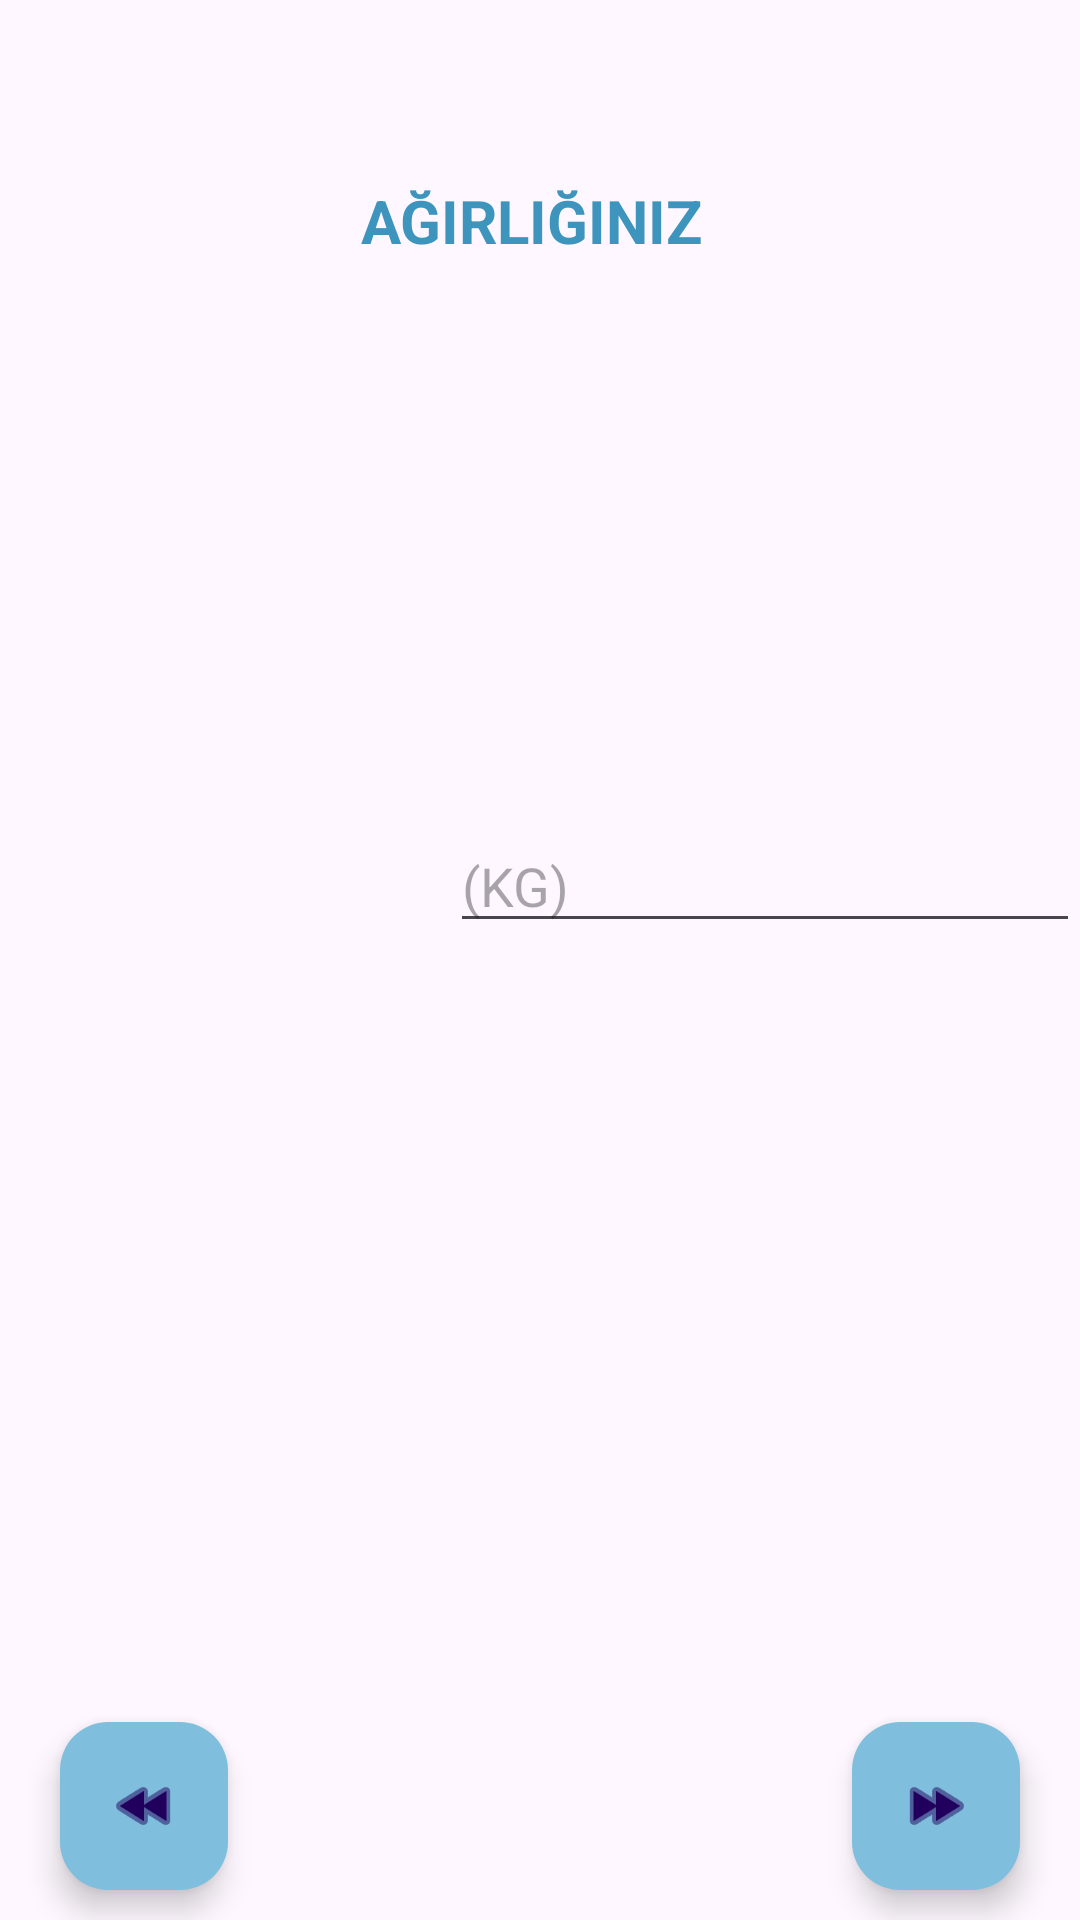

Named icons in this screenshot (1080*1920) and their bounding boxes, bbox=(x1, y1, x2, y2):
rew: bbox=(60, 1722, 228, 1890)
